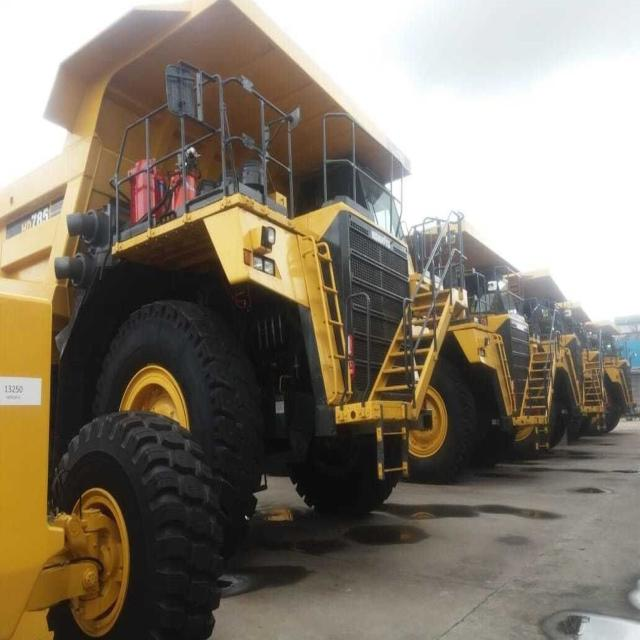dump_truck: (19, 2, 428, 553), (411, 189, 552, 486), (543, 264, 593, 458)
